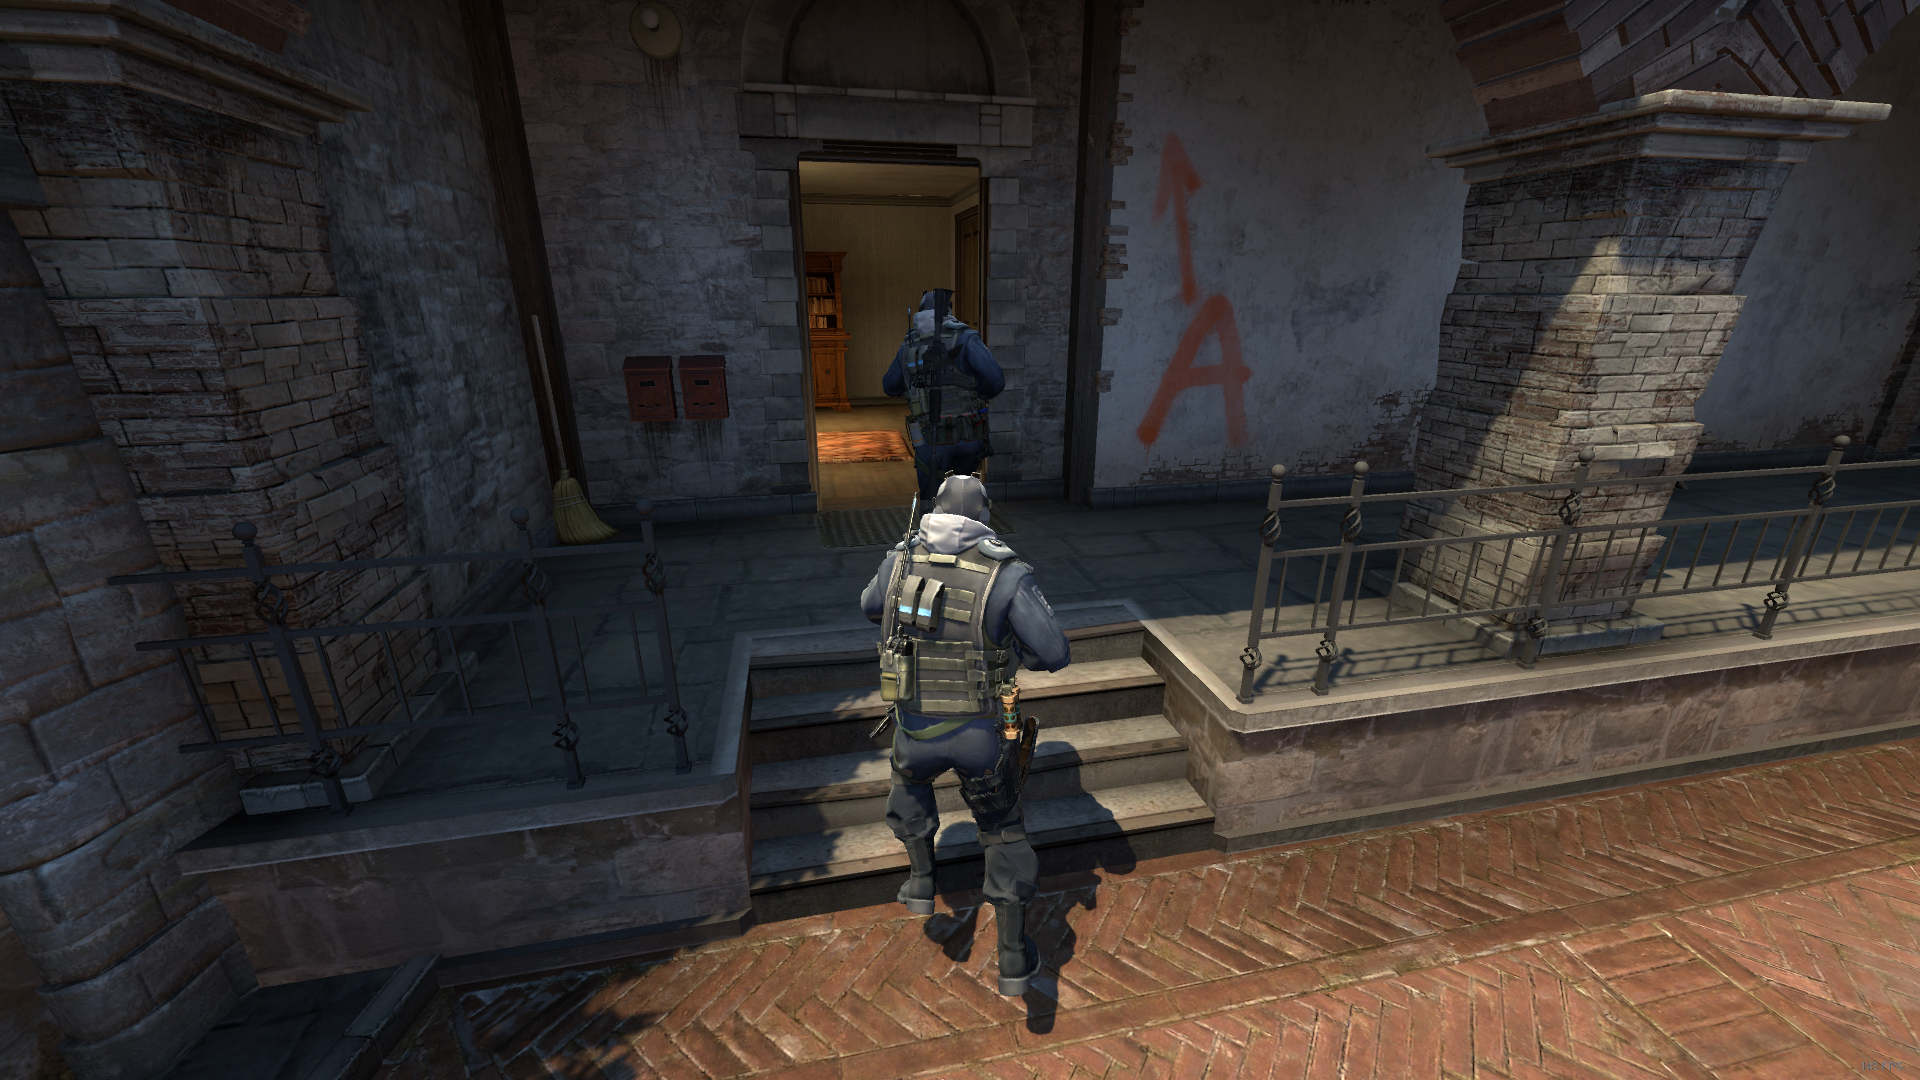ct: (856, 465, 1077, 1007), (878, 289, 1004, 483)
